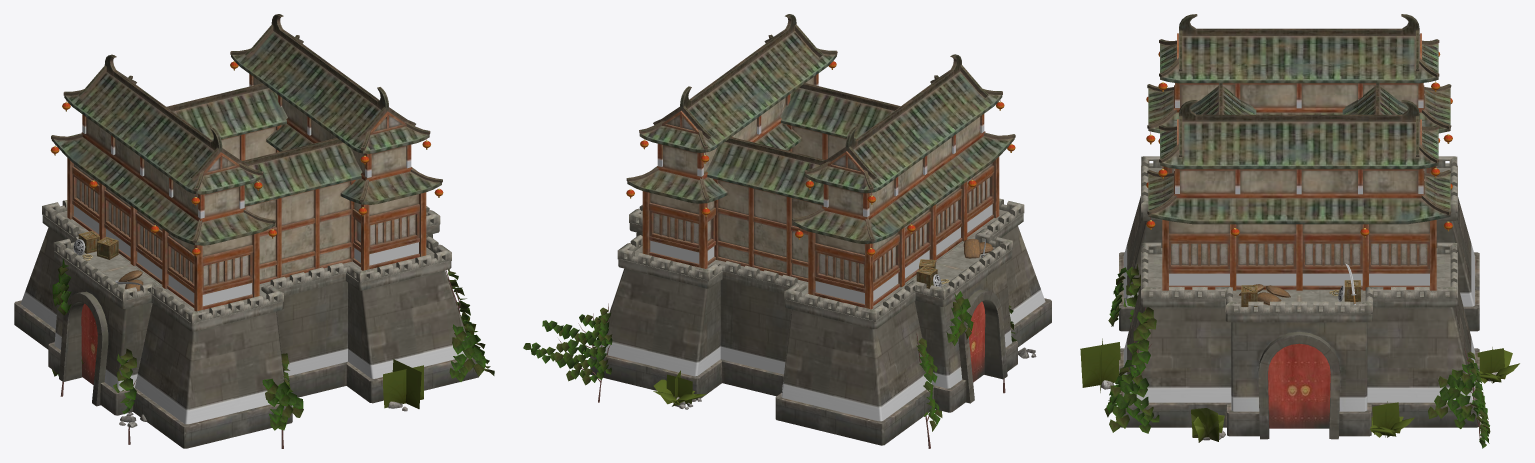
Rendered from 111-citadelcenter.glb.
3 renders of one model, left to right at view 1: azimuth 30°, elevation 25°; view 2: azimuth 150°, elevation 25°; view 3: azimuth 270°, elevation 25°, orthographic. The views are drawn at different scales.
Bounding box in the file's own units: 12.65 × 9.95 × 11.91.
14 materials, 14 textured.
